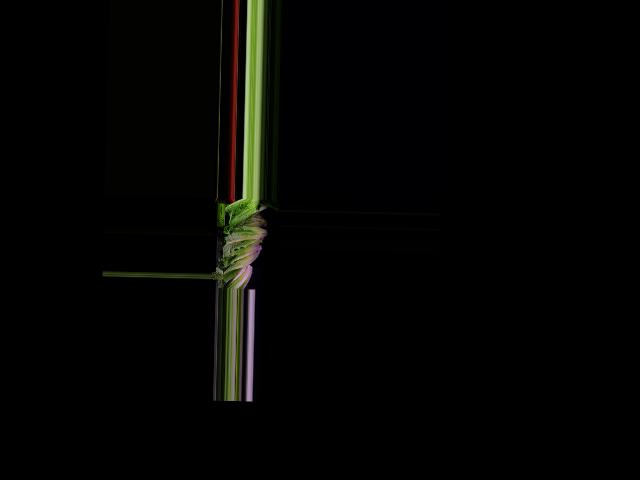lettuce: (224, 262, 254, 290)
